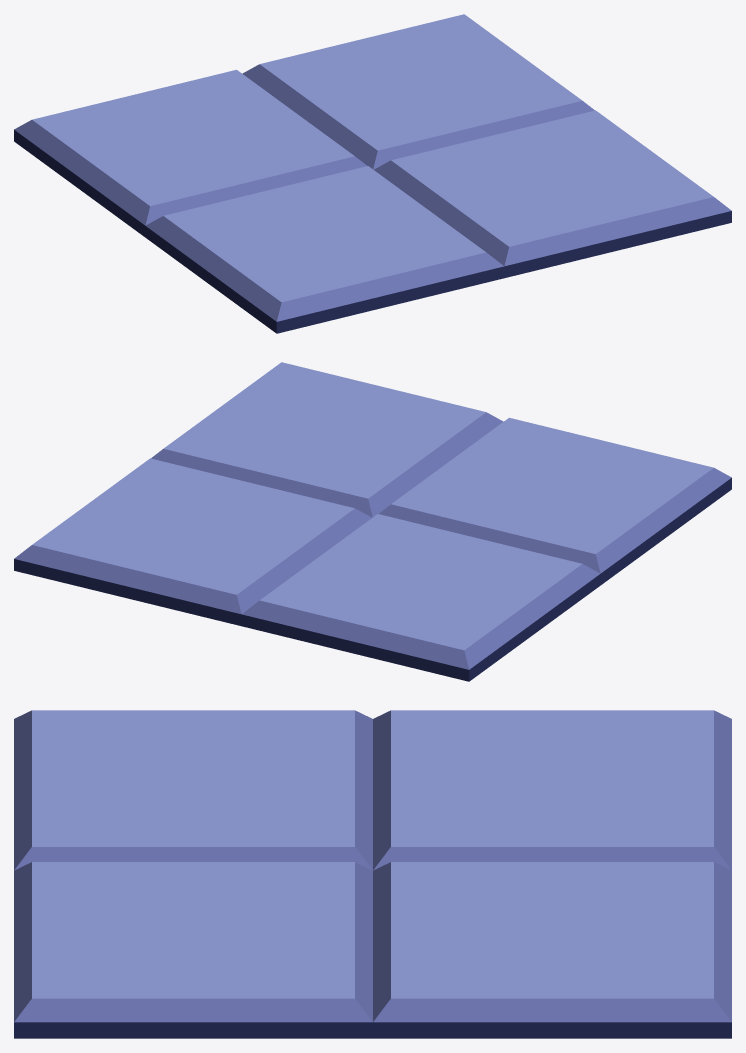
File: UFO_Tile.fbx
3 renders of one model, top to bottom at view 1: azimuth 30°, elevation 25°; view 2: azimuth 150°, elevation 25°; view 3: azimuth 270°, elevation 25°, orthographic. The views are drawn at different scales.
Visible parts, largest first — view 1: Cube.017; view 2: Cube.017; view 3: Cube.017.
Part boxes in pixels (x1,y1,x2,y2): Cube.017: (14, 14, 731, 333); Cube.017: (14, 362, 731, 681); Cube.017: (14, 710, 731, 1038).
Bounding box in the file's own units: 2 × 0.1 × 2.
